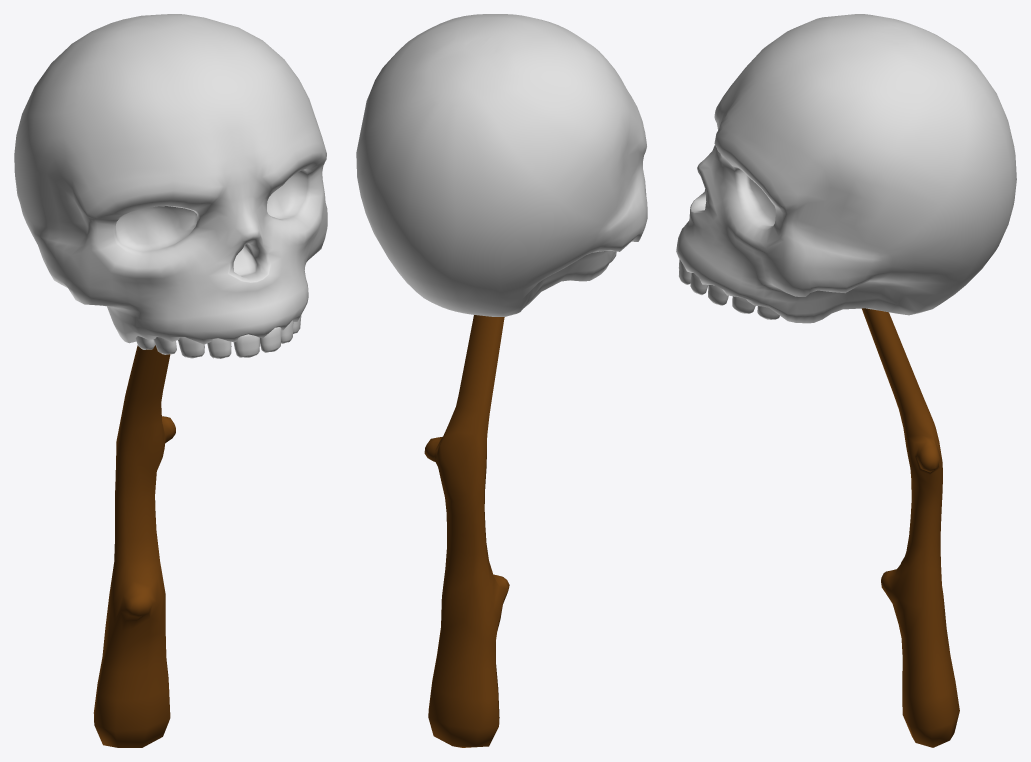
Rendered from SkullOnStickV1.fbx.
3 renders of one model, left to right at view 1: azimuth 30°, elevation 25°; view 2: azimuth 150°, elevation 25°; view 3: azimuth 270°, elevation 25°, orthographic. The views are drawn at different scales.
Visible parts, largest first — view 1: SkullOnStickV1; view 2: SkullOnStickV1; view 3: SkullOnStickV1.
Boxes of the visible parts, <box> form: SkullOnStickV1: <box>14,14,327,747</box>; SkullOnStickV1: <box>356,14,647,747</box>; SkullOnStickV1: <box>676,14,1016,747</box>.
Bounding box in the file's own units: 42.48 × 116 × 50.46.
